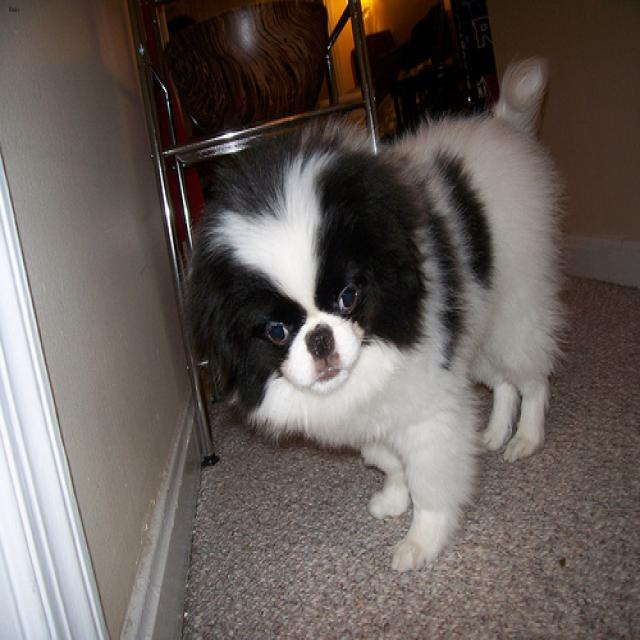dog-japanese_chin: (172, 43, 575, 584)
